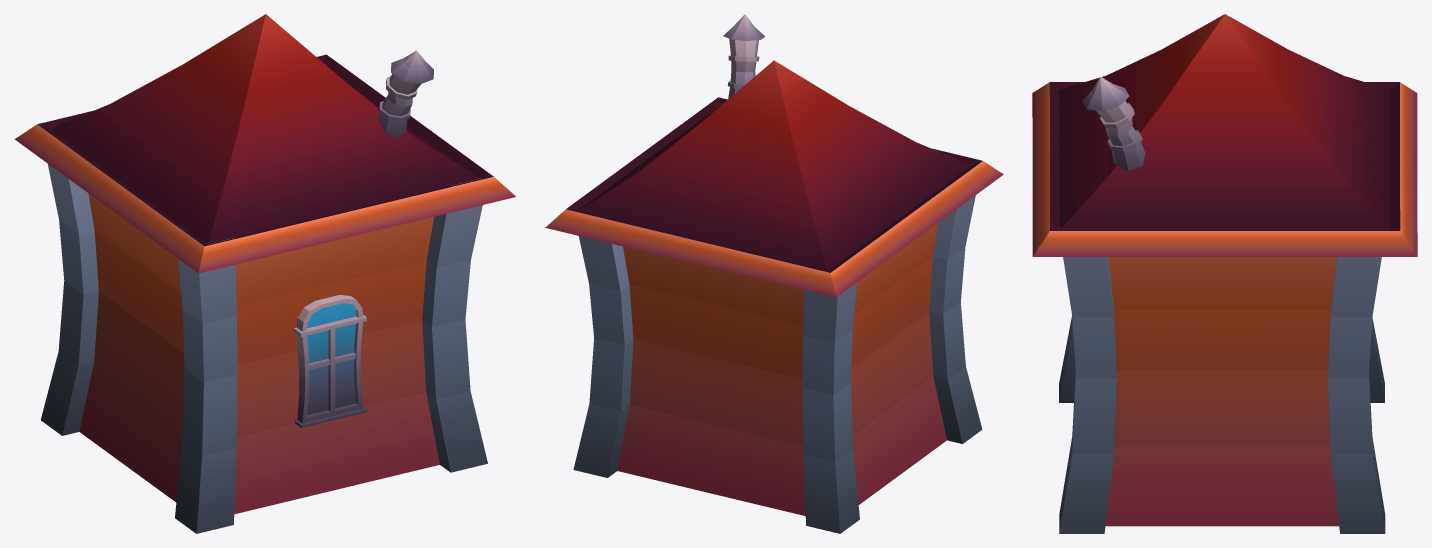
Rendered from House_2.fbx.
3 views of the same model, side by side, from view 1: azimuth 30°, elevation 25°; view 2: azimuth 150°, elevation 25°; view 3: azimuth 270°, elevation 25° (orthographic). The views are drawn at different scales.
Parts seen in each view (by area): view 1: House Upper Floor; view 2: House Upper Floor; view 3: House Upper Floor.
Part boxes in pixels (<box>): House Upper Floor: <box>14,14,515,533</box>; House Upper Floor: <box>545,14,1003,533</box>; House Upper Floor: <box>1032,14,1417,533</box>.
Bounding box in the file's own units: 357 × 457 × 357.
